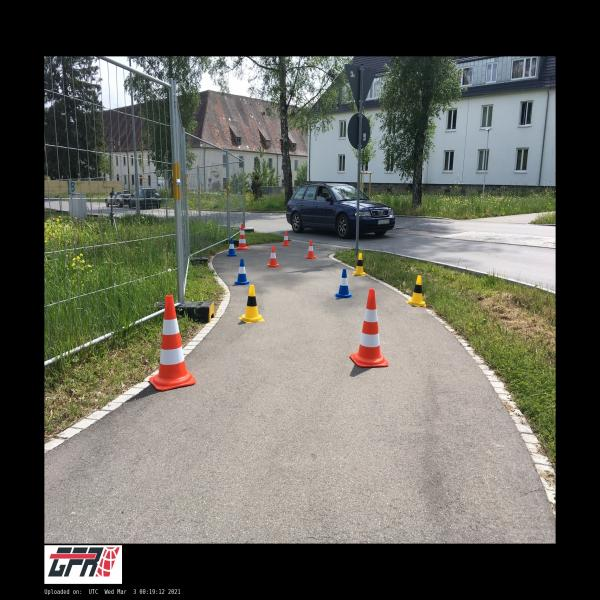blue_cone: (334, 269, 353, 298), (234, 258, 250, 285), (226, 239, 237, 256)
large_orange_cone: (149, 295, 196, 391), (350, 288, 388, 367), (236, 224, 249, 250)
orange_cone: (267, 246, 279, 268), (306, 241, 316, 259), (282, 232, 290, 246)
yellow_cone: (238, 285, 264, 323), (405, 275, 426, 306), (353, 253, 366, 276)
